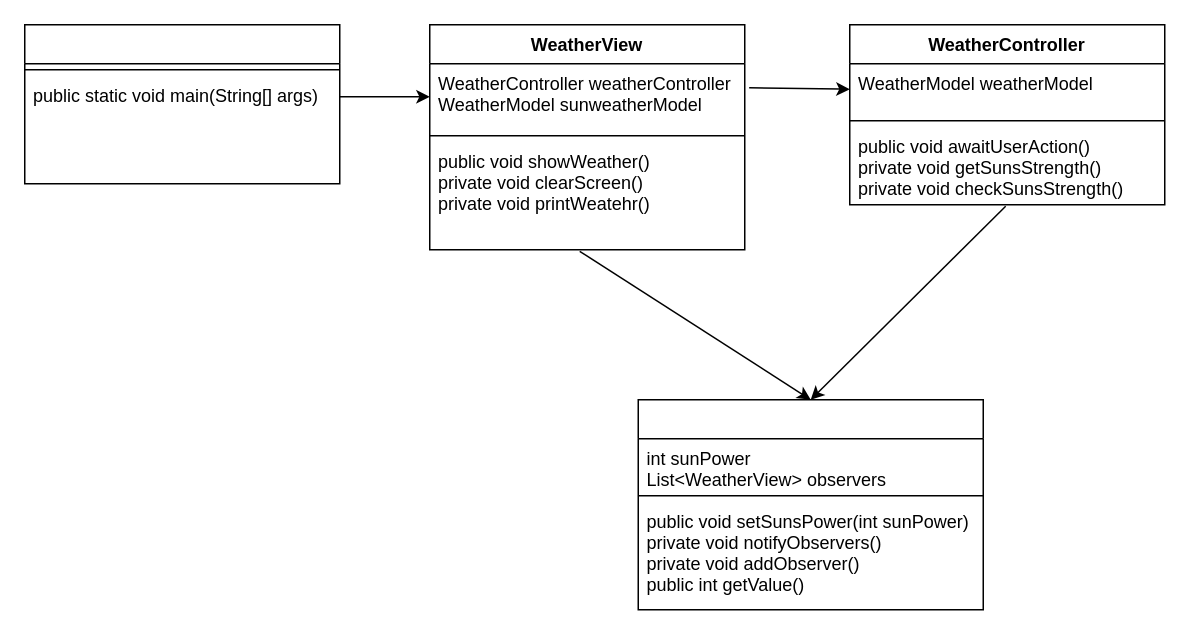
Some shapes in this 1190 by 635 pixel diagram are drawn without their labels. Each missing label, with the box of its shape:
Runner: (23, 23, 340, 184)
WeatherModel: (637, 398, 983, 610)
